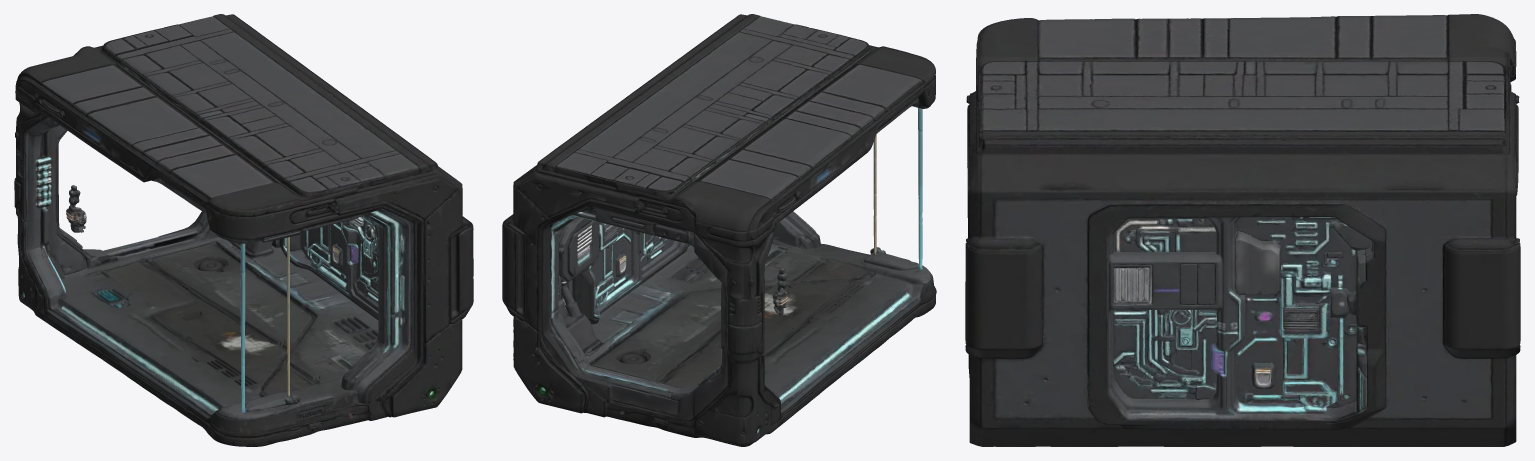
Rendered from lab-module.glb.
3 renders of one model, left to right at view 1: azimuth 30°, elevation 25°; view 2: azimuth 150°, elevation 25°; view 3: azimuth 270°, elevation 25°, orthographic. The views are drawn at different scales.
Parts seen in each view (by area): view 1: tripo_node_c60ea5b7-ae04-48ff-bc82-41c9c9da6578; view 2: tripo_node_c60ea5b7-ae04-48ff-bc82-41c9c9da6578; view 3: tripo_node_c60ea5b7-ae04-48ff-bc82-41c9c9da6578.
Part boxes in pixels (x1,y1,x2,y2): tripo_node_c60ea5b7-ae04-48ff-bc82-41c9c9da6578: (14, 14, 473, 446); tripo_node_c60ea5b7-ae04-48ff-bc82-41c9c9da6578: (502, 14, 936, 446); tripo_node_c60ea5b7-ae04-48ff-bc82-41c9c9da6578: (965, 14, 1520, 446).
Bounding box in the file's own units: 0.6582 × 0.596 × 0.9812.
1 material, 1 textured.
